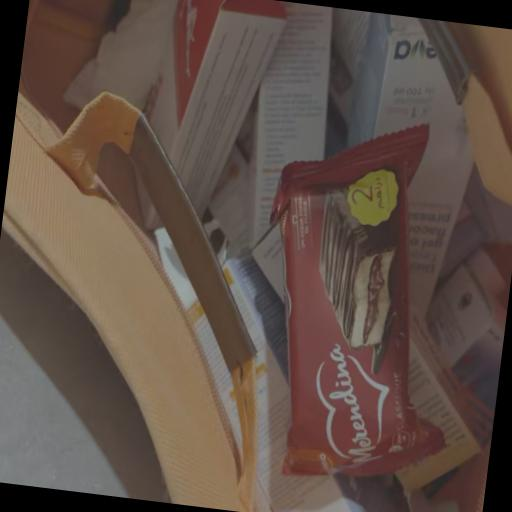merendina: (211, 60, 512, 512)
